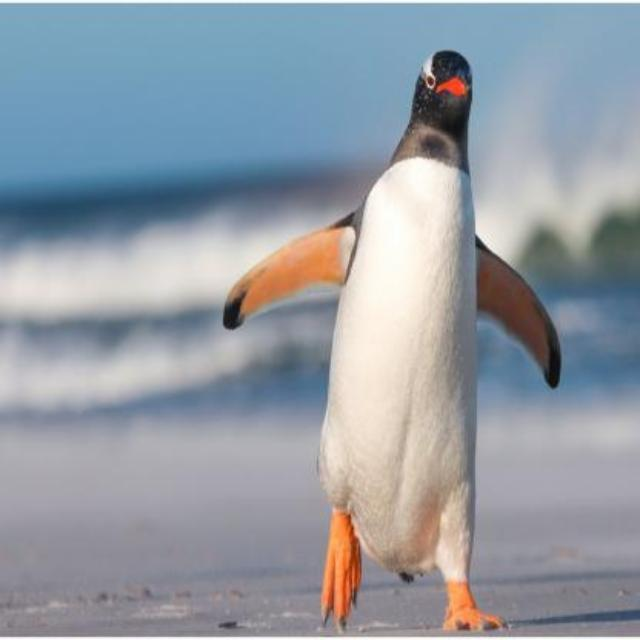penguin: (222, 50, 564, 632)
